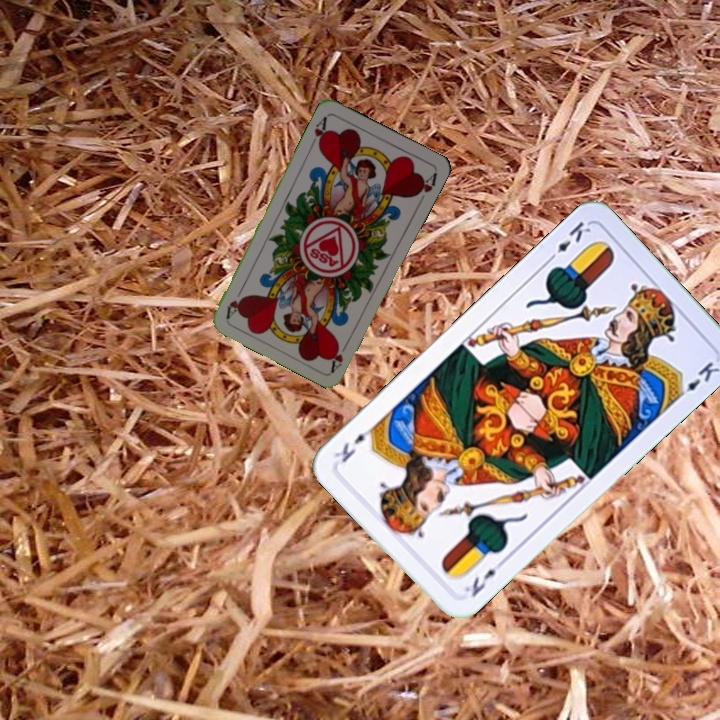EK: (543, 216, 594, 265), (460, 555, 508, 600)
HA: (326, 336, 352, 374), (306, 112, 330, 151)
